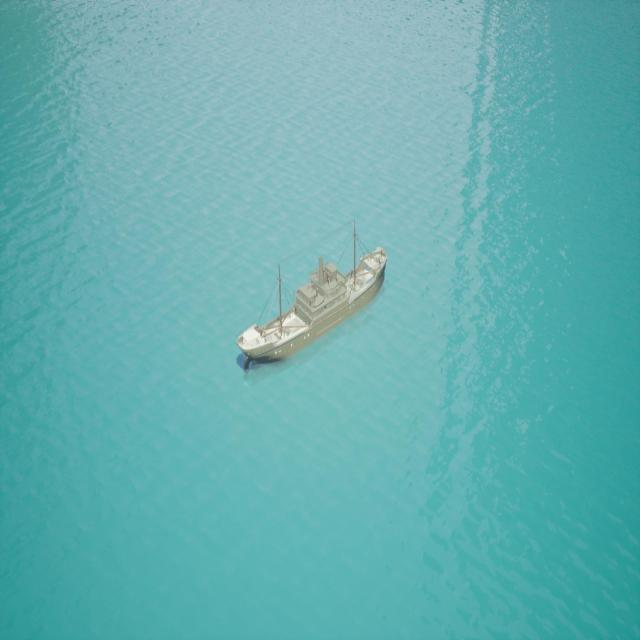fishing ship: (237, 222, 390, 367)
